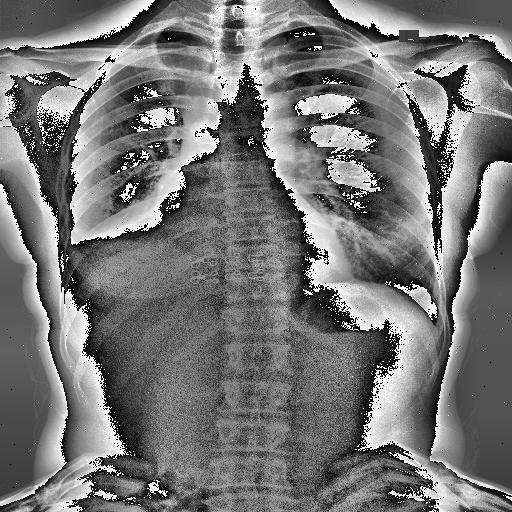4- Consolidation: (64, 162, 224, 282), (61, 167, 194, 272)
9- Other lesion: (67, 218, 154, 250)
